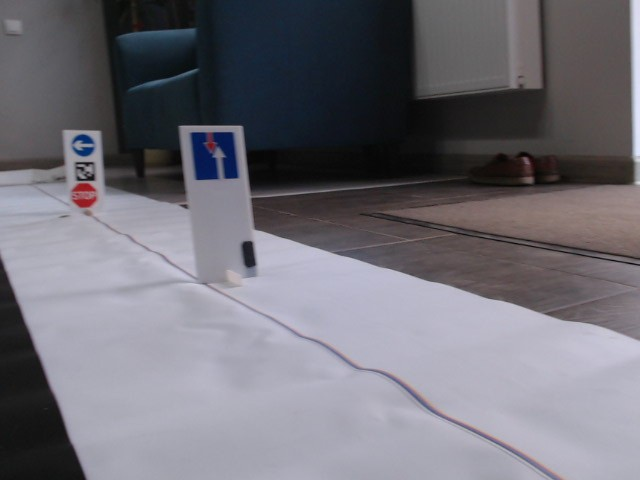Stop: (69, 182, 98, 208)
priority_movement: (188, 131, 241, 182)
